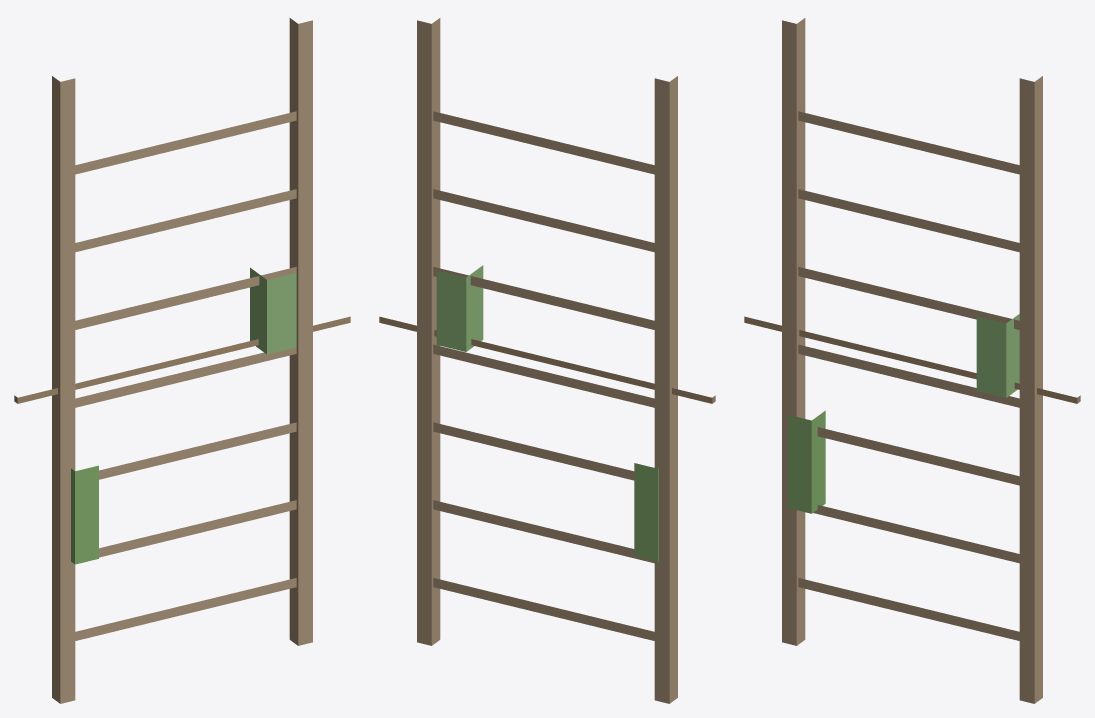
Rendered from trellis.glb.
3 views of the same model, side by side, from view 1: azimuth 30°, elevation 25°; view 2: azimuth 150°, elevation 25°; view 3: azimuth 330°, elevation 25° (orthographic).
Size of the model in its own units: 1.12 by 2 by 0.1.
